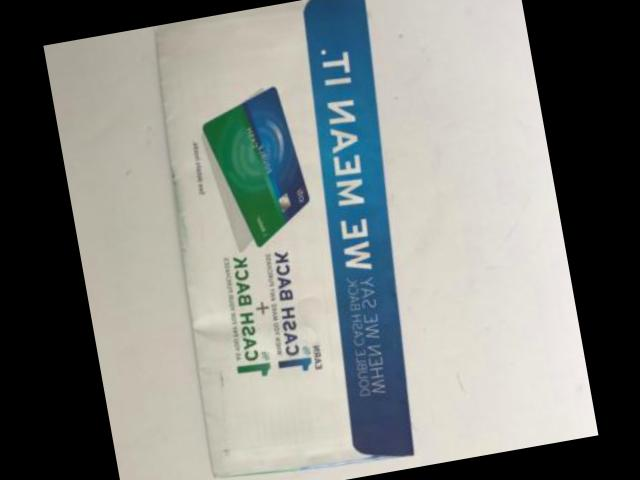cardboard paper: (156, 0, 414, 478)
